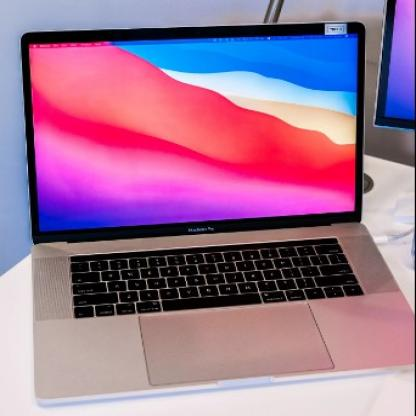NOTEBOOK: (11, 24, 416, 411)
